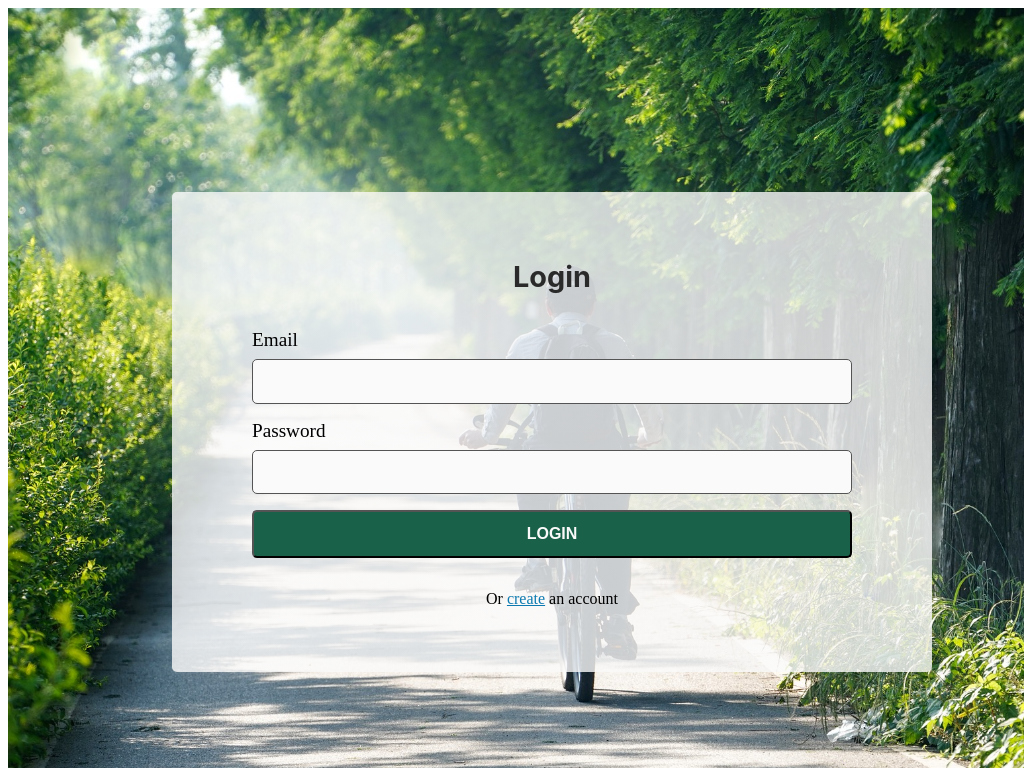
Test case: LoginPage component › Log in with valid credentials but credentials are not known
The width and height of the screenshot is (1024, 768).
Type "test@example.com" into the field labelled "Email" at x=552, y=382, box [252,359,852,404]
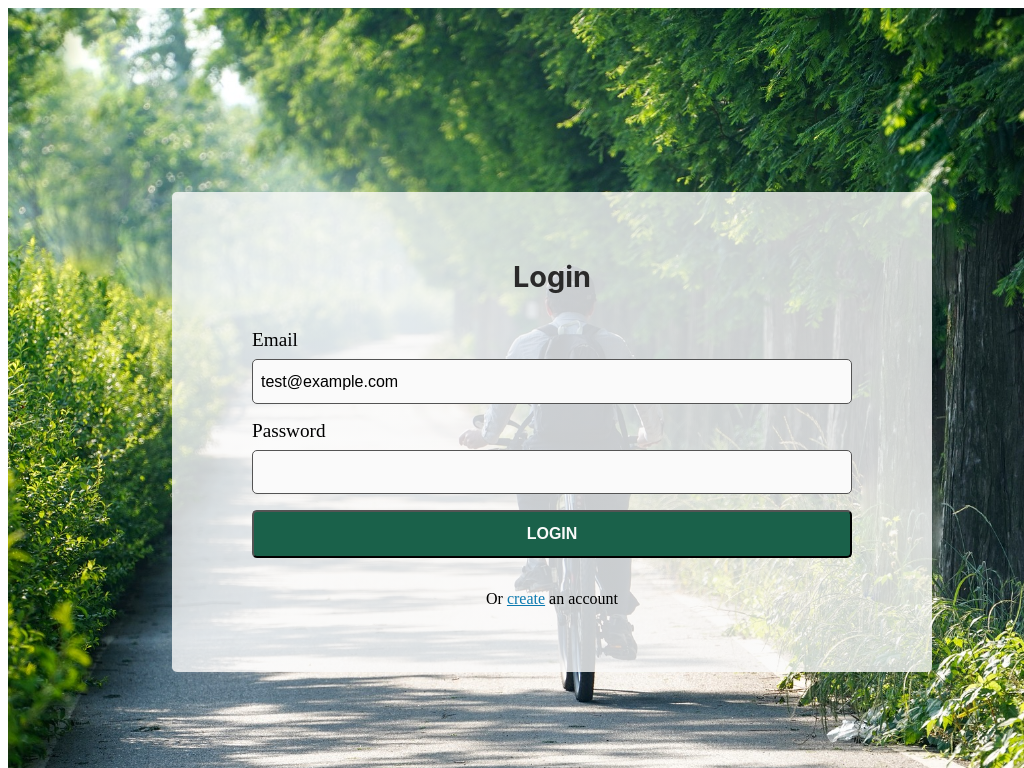
Type "password123" into the password field labelled "Password" at x=552, y=472, box [252,450,852,494]
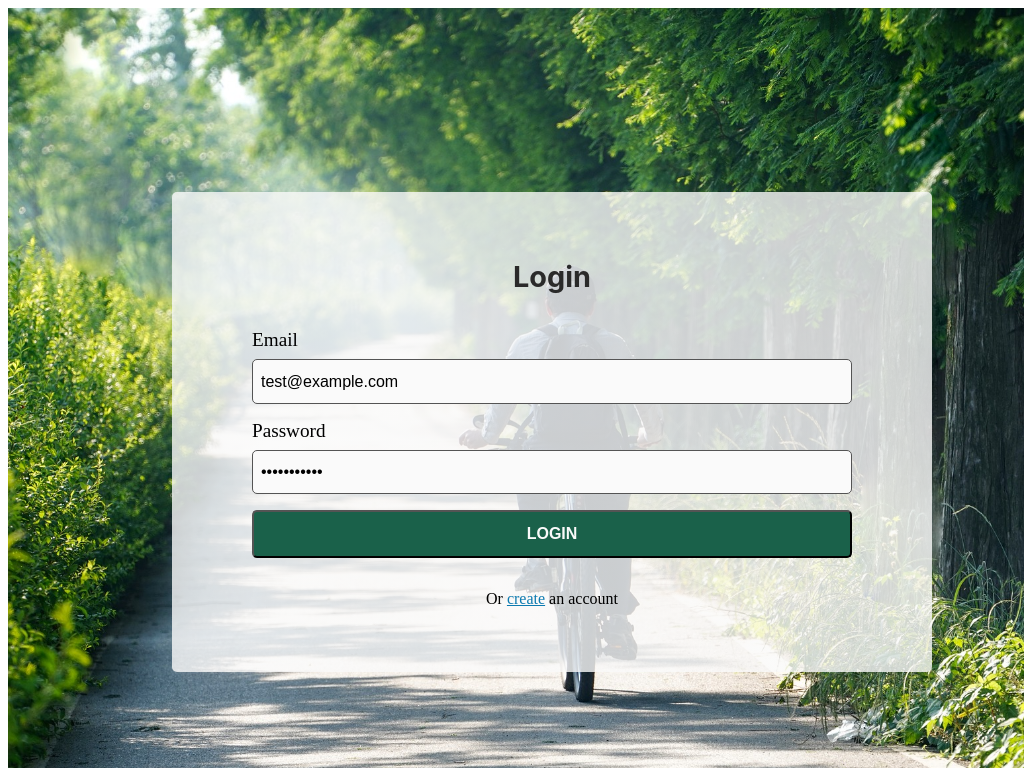
Click the button "Login" at x=552, y=534, box [252,510,852,558]
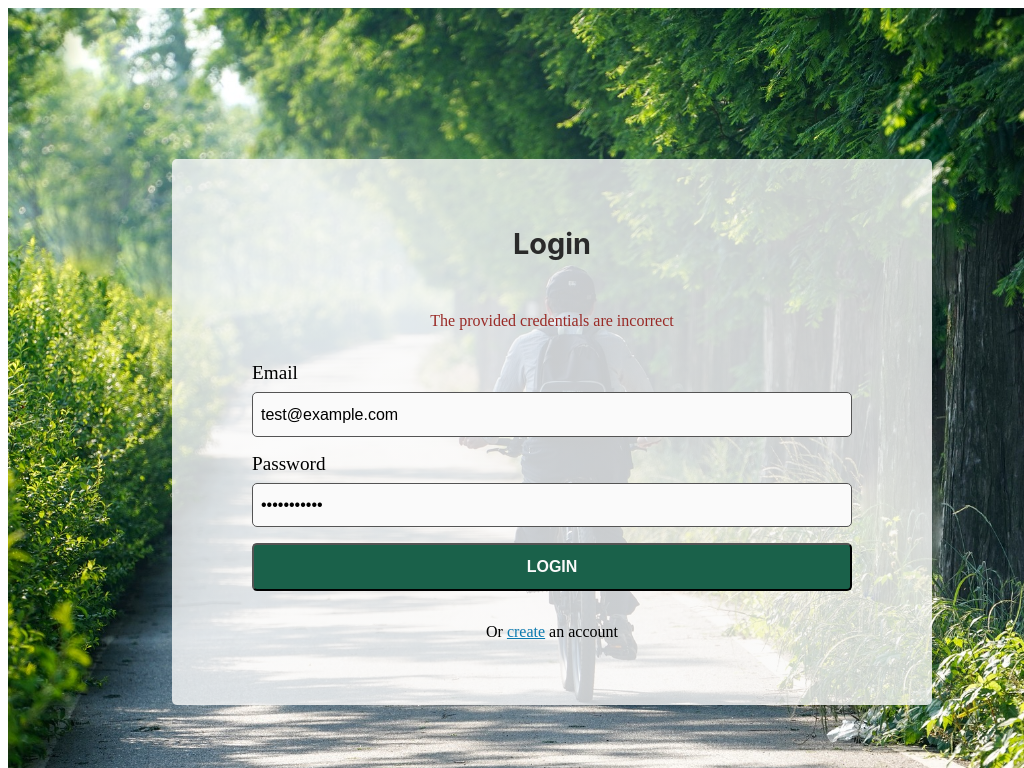
Now the text "The provided credentials are incorrect" is shown, box [430,312,674,330]
